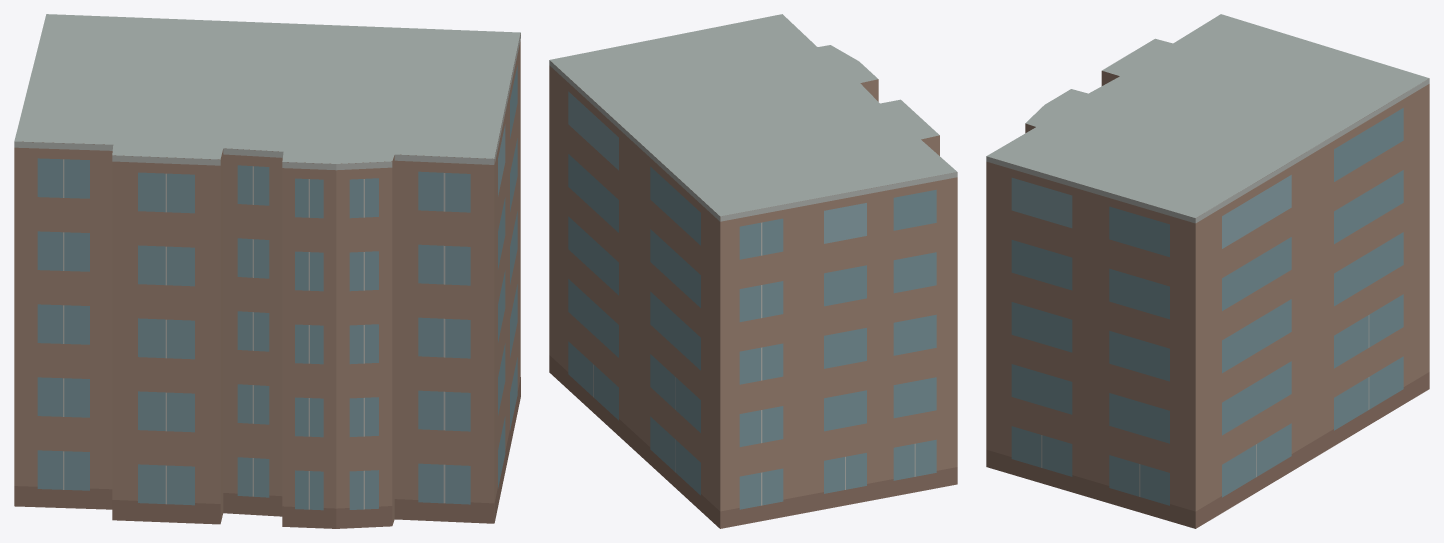
File: survey-upis-32489453.glb
3 renders of one model, left to right at view 1: azimuth 30°, elevation 25°; view 2: azimuth 150°, elevation 25°; view 3: azimuth 270°, elevation 25°, orthographic. The views are drawn at different scales.
Visible parts, largest first — view 1: survey-upis-32489453.tmp; view 2: survey-upis-32489453.tmp; view 3: survey-upis-32489453.tmp.
Part boxes in pixels (bbox=[...]): survey-upis-32489453.tmp: bbox=[14, 14, 520, 528]; survey-upis-32489453.tmp: bbox=[549, 14, 957, 528]; survey-upis-32489453.tmp: bbox=[986, 14, 1429, 528].
Size of the model in its own units: 20.24 by 14.35 by 18.57.
